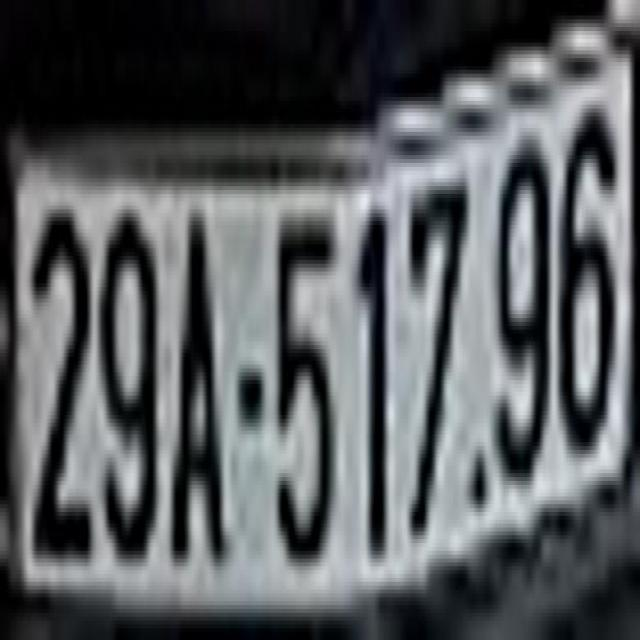1: (359, 182, 388, 570)
2: (32, 198, 91, 551)
5: (273, 218, 331, 598)
6: (562, 105, 617, 454)
7: (408, 148, 465, 540)
9: (102, 198, 156, 527), (504, 128, 550, 446)
A: (175, 198, 222, 566)
